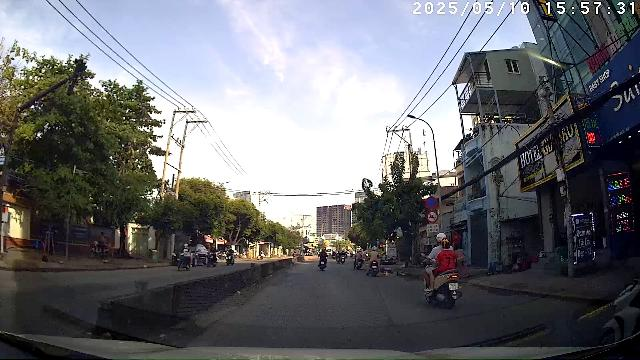131a-cam-do-xe: (425, 196, 438, 210)
